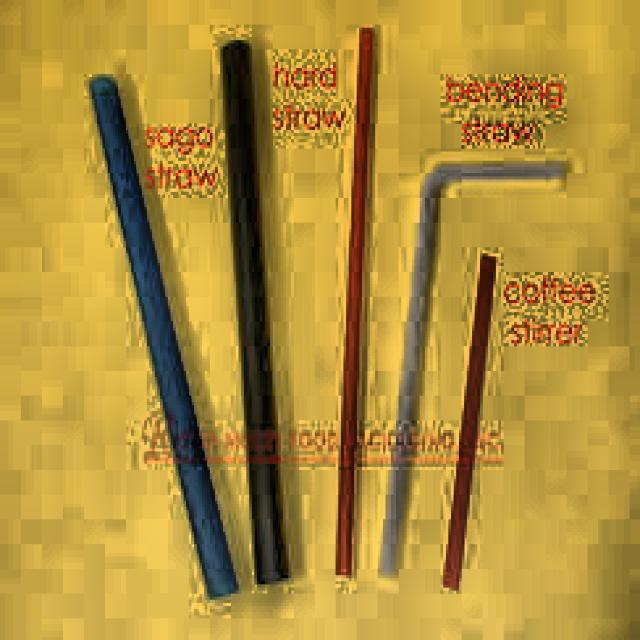plastic straw: (90, 77, 237, 597), (381, 164, 564, 575), (221, 40, 289, 583), (336, 28, 371, 575), (442, 255, 496, 590)
